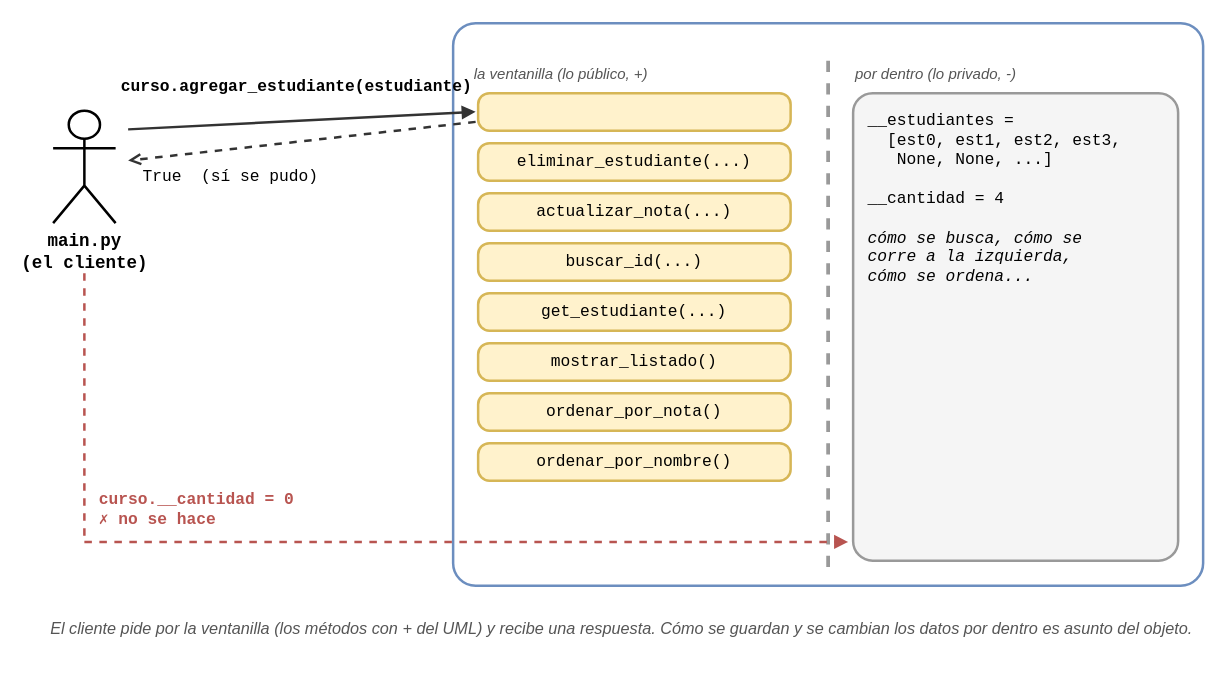
Some shapes in this 1226 by 676 pixel diagram are drawn without their labels. Each missing label, with the box of its shape:
agregar_estudiante(...): (476, 91, 791, 131)
curso : Curso: (451, 21, 1204, 586)
